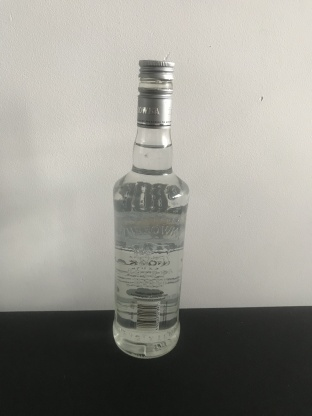nakretka: (135, 56, 176, 129)
